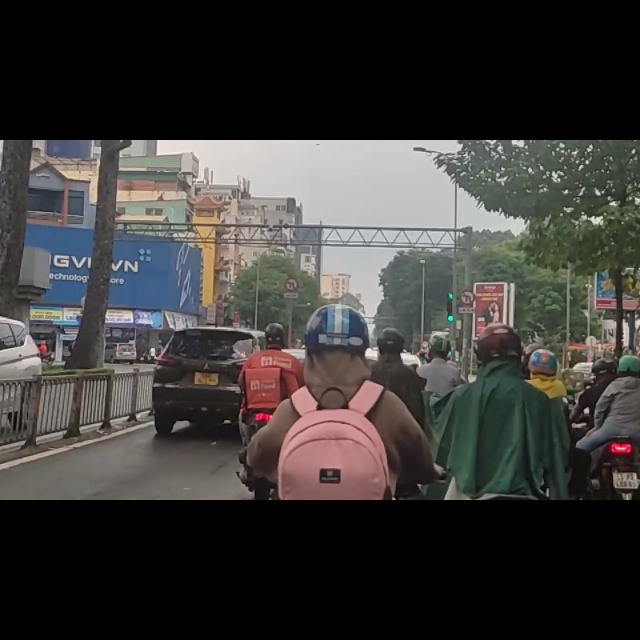bien_cam: (283, 242, 300, 271), (459, 268, 475, 295)
